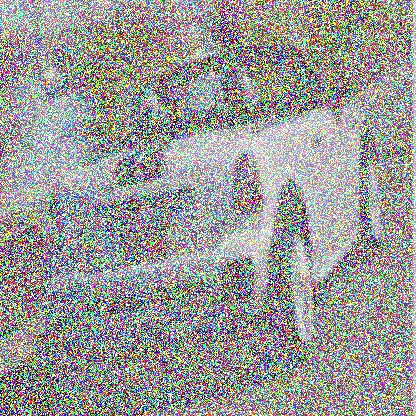Vehicle: (42, 43, 383, 398)
